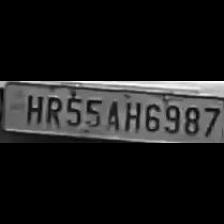5: (62, 93, 82, 126), (83, 96, 103, 128)
6: (141, 99, 161, 133)
7: (201, 102, 221, 138)
8: (181, 102, 199, 136)
9: (161, 100, 181, 134)
A: (103, 97, 121, 131)
H: (22, 92, 44, 124), (122, 98, 140, 132)
R: (42, 92, 62, 125)
